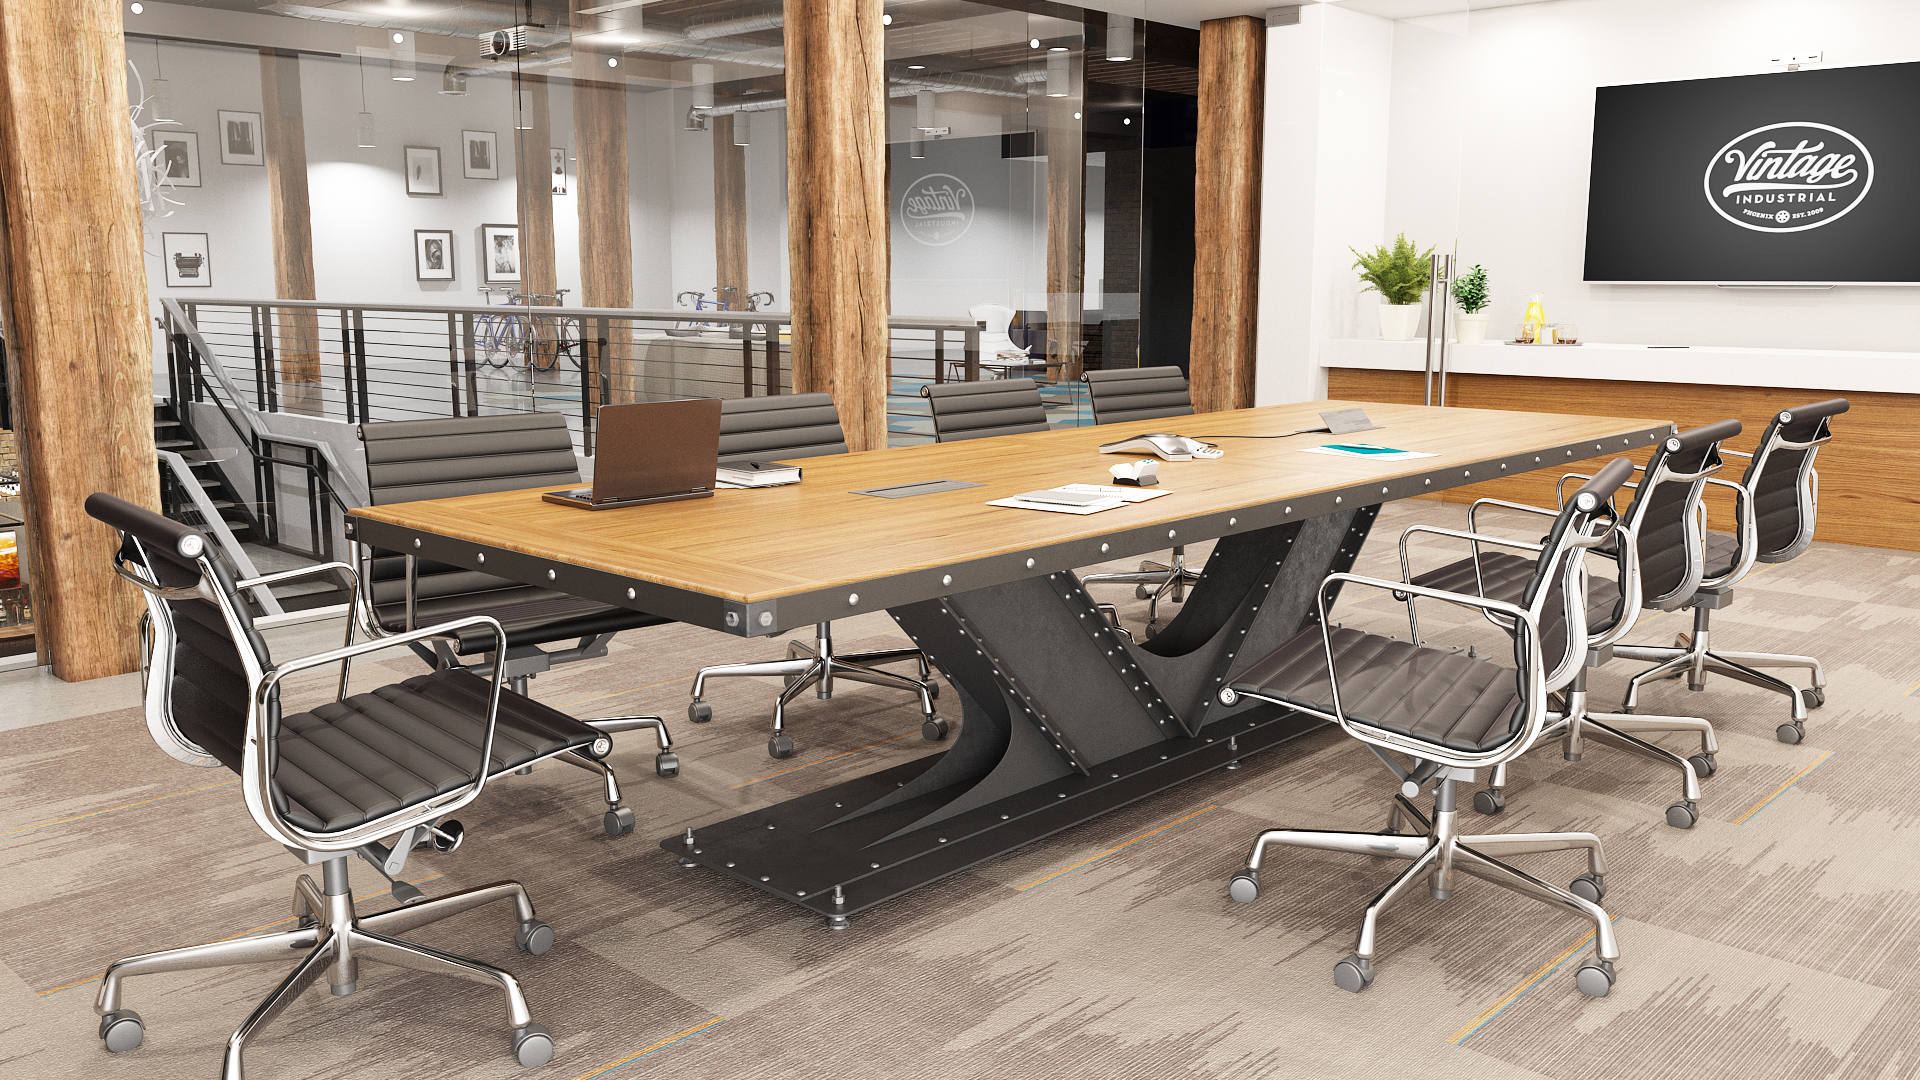conference_table: (343, 399, 1677, 938)
